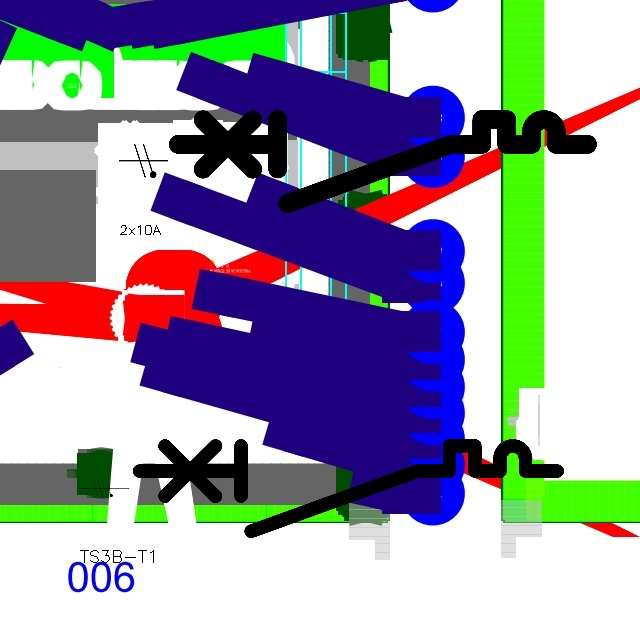interruptor_termomagnetico: (128, 435, 568, 542), (167, 109, 597, 214)
